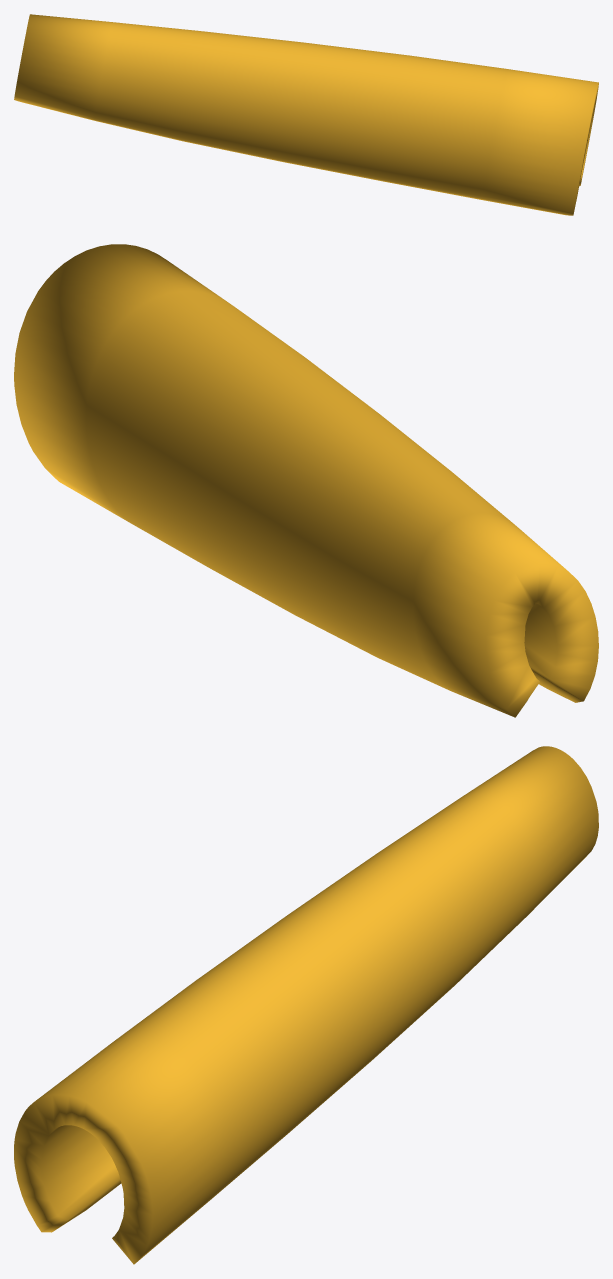
File: nervoso-auditory-tube-r.glb
3 renders of one model, top to bottom at view 1: azimuth 30°, elevation 25°; view 2: azimuth 150°, elevation 25°; view 3: azimuth 270°, elevation 25°, orthographic. The views are drawn at different scales.
Visible parts, largest first — view 1: Auditory tube.r; view 2: Auditory tube.r; view 3: Auditory tube.r.
Boxes of the visible parts, bbox=[...] form: Auditory tube.r: bbox=[14, 14, 598, 215]; Auditory tube.r: bbox=[14, 244, 598, 717]; Auditory tube.r: bbox=[14, 746, 598, 1264].
Size of the model in its own units: 0.0215 by 0.00746 by 0.0169.
